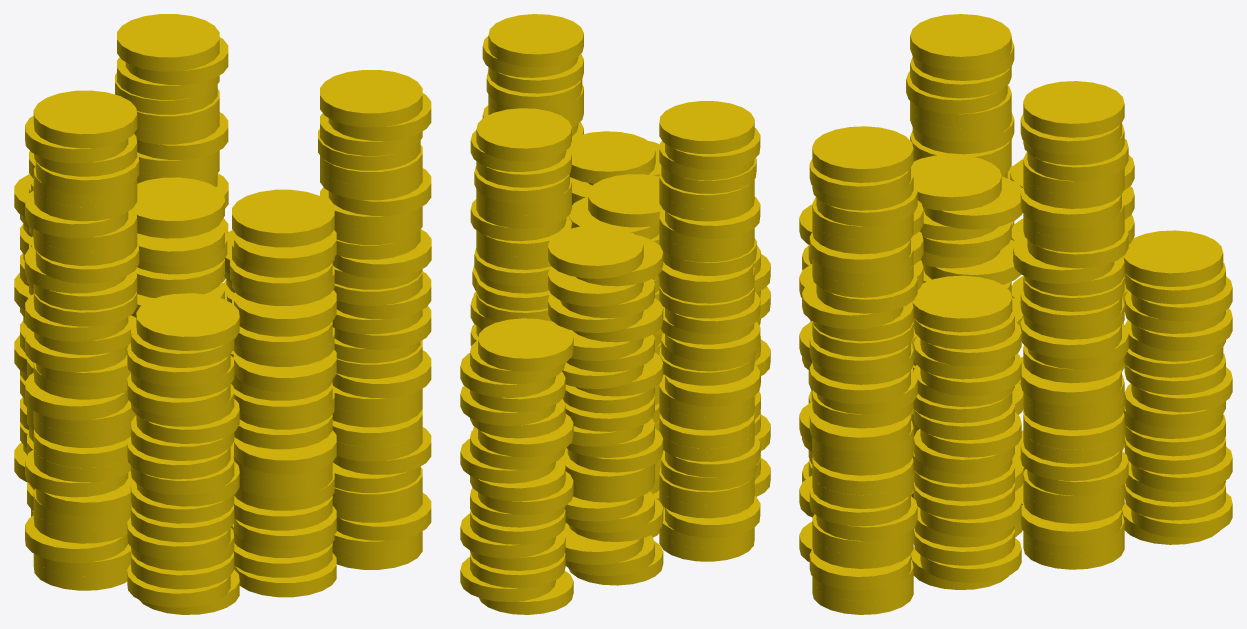
Rendered from Gold Coins.fbx.
The picture shows the model from 3 angles, left to right: view 1: azimuth 30°, elevation 25°; view 2: azimuth 150°, elevation 25°; view 3: azimuth 270°, elevation 25°; orthographic projection. The views are drawn at different scales.
Visible parts, largest first — view 1: pCylinder164; view 2: pCylinder164; view 3: pCylinder164.
Part boxes in pixels (x1,y1,x2,y2): pCylinder164: (14,14,431,614); pCylinder164: (460,14,770,614); pCylinder164: (799,14,1232,614).
Bounding box in the file's own units: 7.56 × 9.69 × 8.54.
